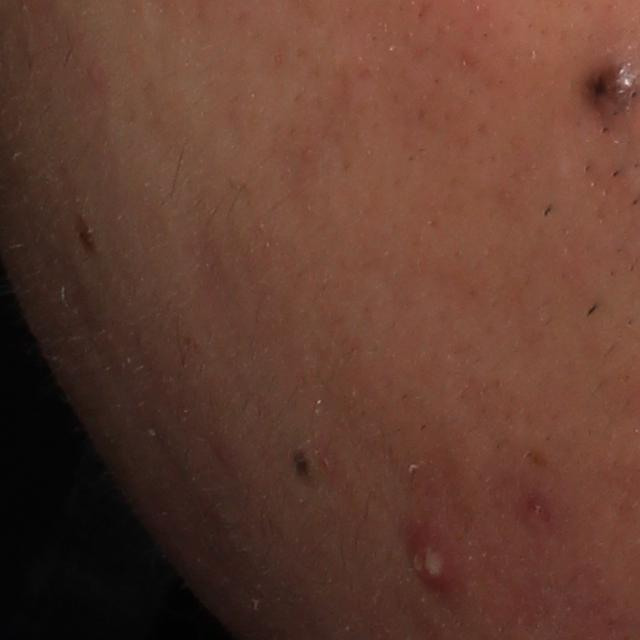nevus: (70, 212, 103, 253), (287, 442, 315, 486)
pustule: (399, 522, 472, 596)
